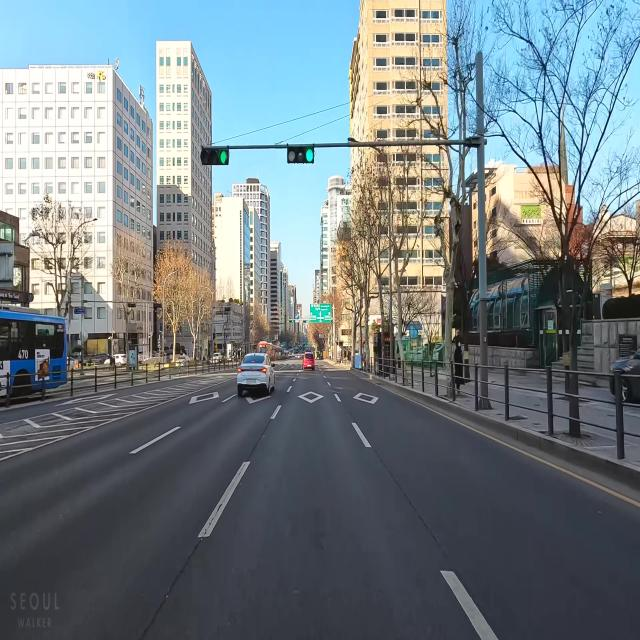Green Light: (218, 151, 228, 164), (306, 148, 314, 164)
